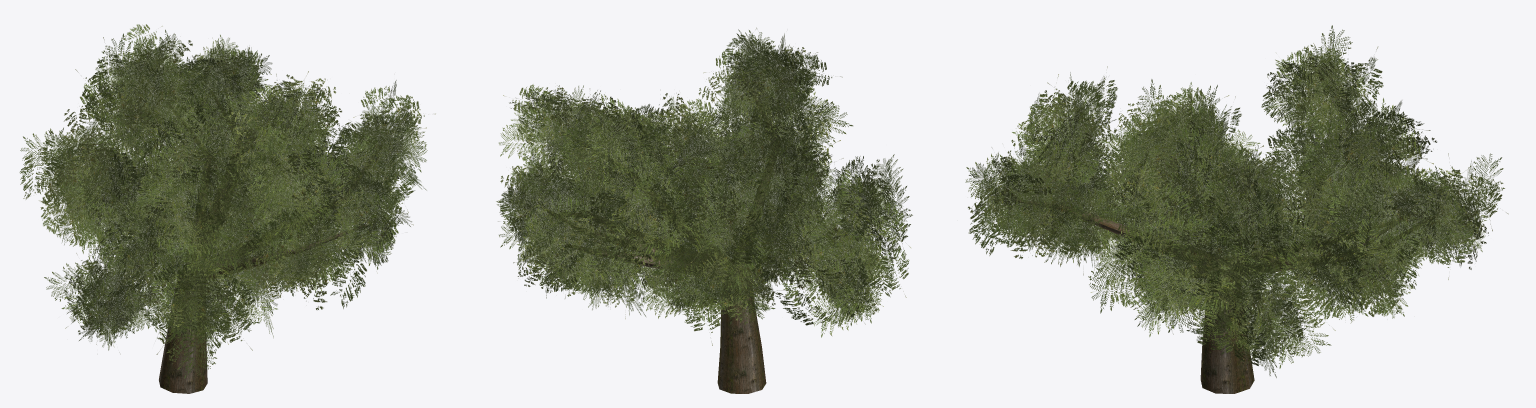
The model's file is olive_2.glb.
3 renders of one model, left to right at view 1: azimuth 30°, elevation 25°; view 2: azimuth 150°, elevation 25°; view 3: azimuth 270°, elevation 25°, orthographic. The views are drawn at different scales.
Parts seen in each view (by area): view 1: olive; view 2: olive; view 3: olive.
Boxes of the visible parts, left/top/right/bottom form: olive: left=19, top=24, right=435, bottom=393; olive: left=496, top=28, right=912, bottom=393; olive: left=965, top=25, right=1508, bottom=393.
Bounding box in the file's own units: 7.68 × 6.17 × 8.68.
2 materials, 2 textured.
